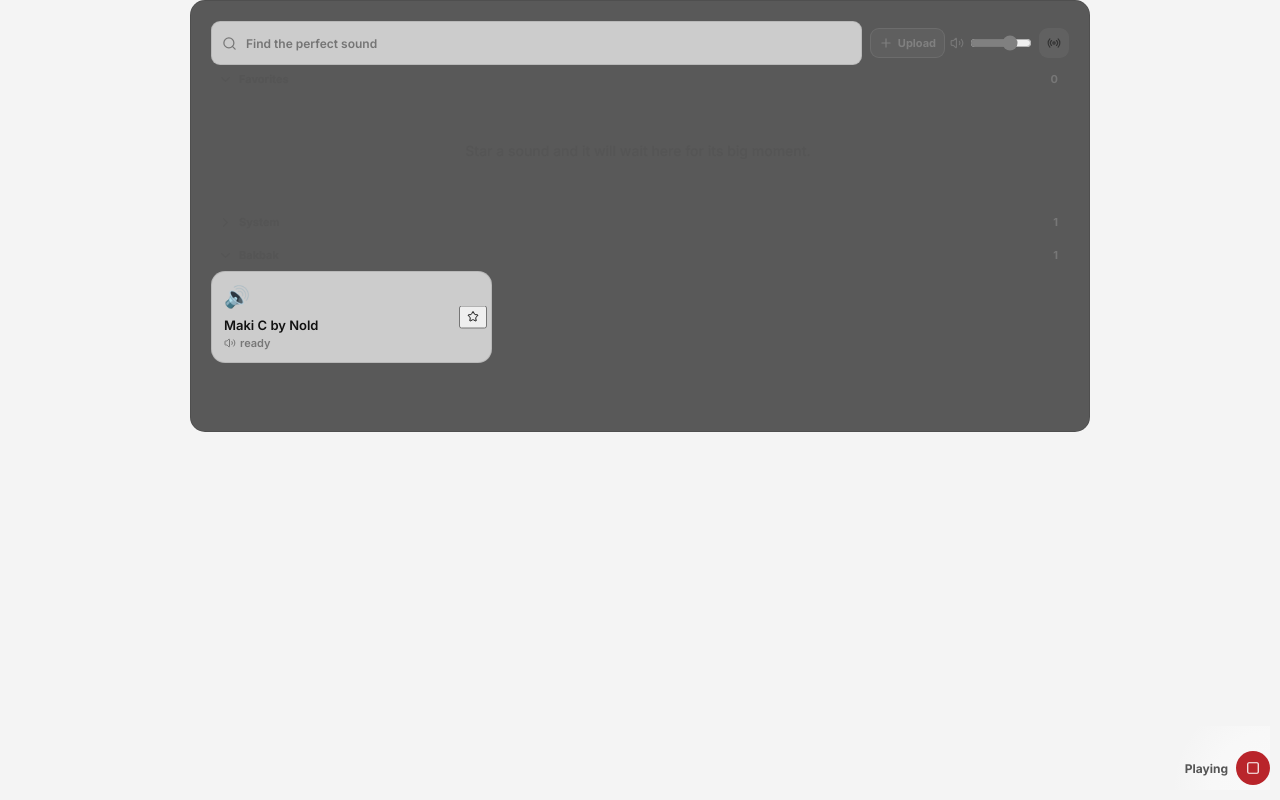
Soundboard › temporarily reveals matching sounds without overwriting collapse state
This screenshot has width=1280, height=800.
Expected: the button "Aye" is not shown
Type "Aye" into the field named "Search sounds" at (547, 43), box [244,34,851,52]
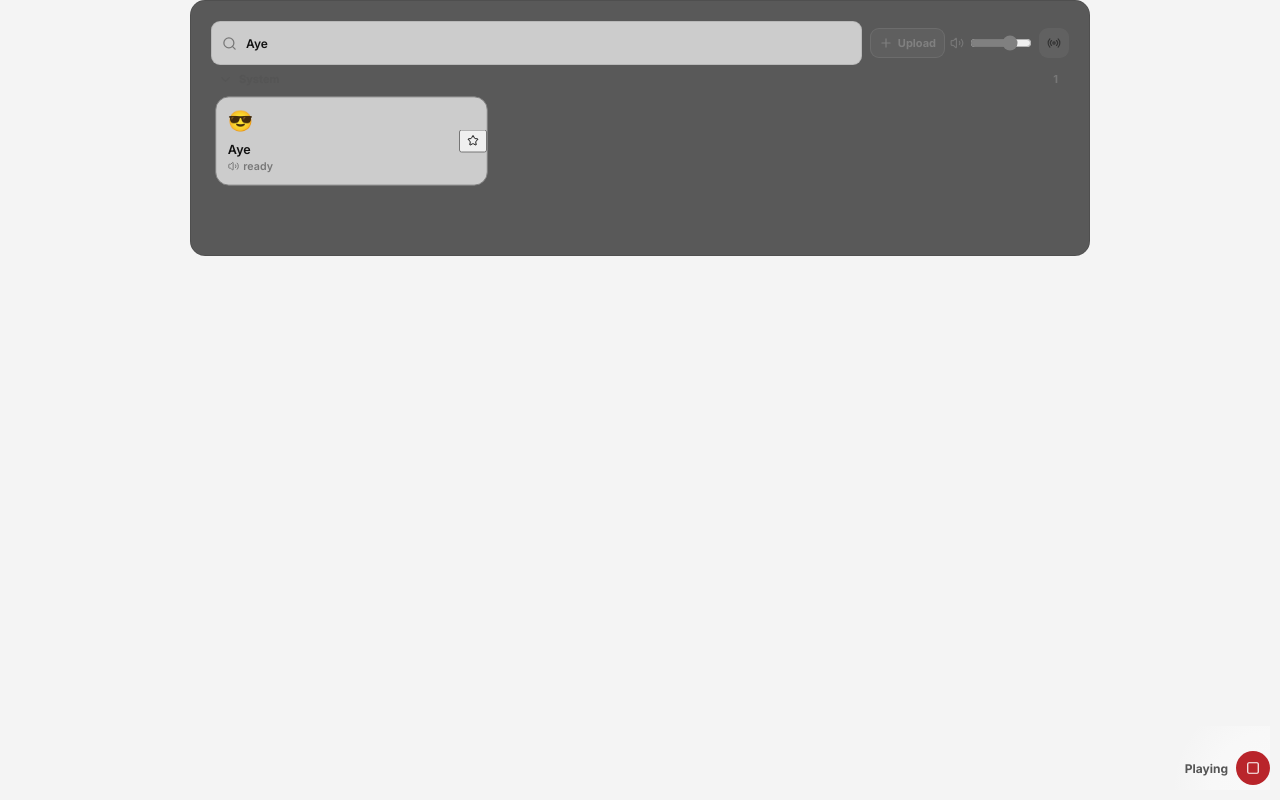
Now the button "😎 Aye ready" is shown, box [215,96,487,186]
